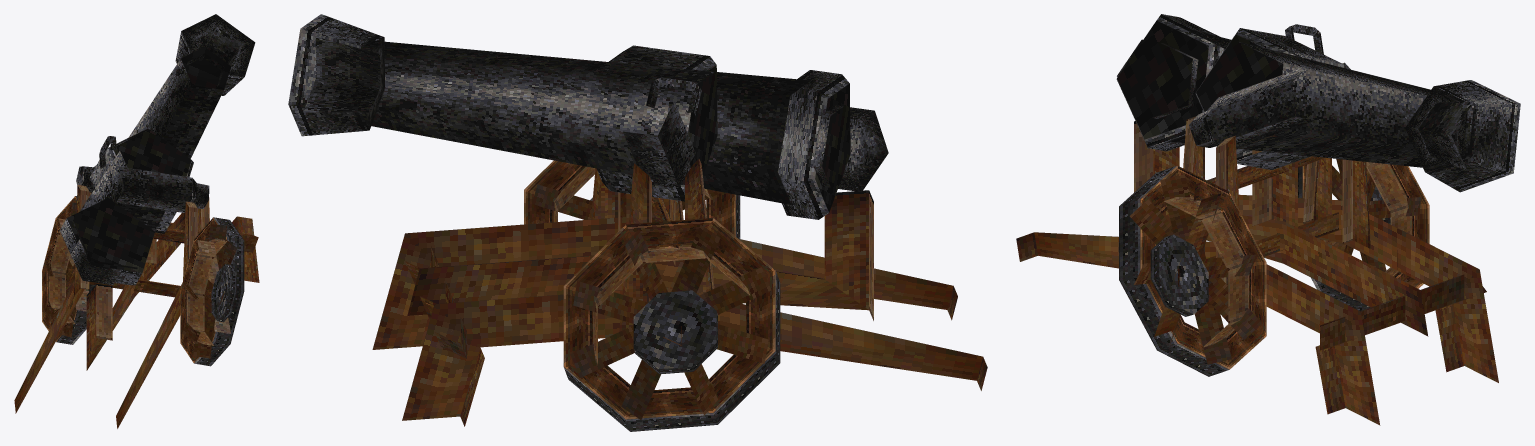
The model's file is ps2_save-icons_nobunagasambitionkakushinpuk.glb.
The picture shows the model from 3 angles, left to right: view 1: azimuth 30°, elevation 25°; view 2: azimuth 150°, elevation 25°; view 3: azimuth 270°, elevation 25°; orthographic projection. The views are drawn at different scales.
Visible parts, largest first — view 1: saveicon.ico; view 2: saveicon.ico; view 3: saveicon.ico.
Boxes of the visible parts, bbox=[...] form: saveicon.ico: bbox=[14, 14, 259, 428]; saveicon.ico: bbox=[288, 14, 987, 431]; saveicon.ico: bbox=[1016, 14, 1520, 425].
Bounding box in the file's own units: 5 × 3.45 × 4.49.
Materials: 1 (1 with a texture image).
